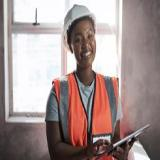Helmet: (62, 4, 98, 52)
Vest: (50, 69, 118, 160)
